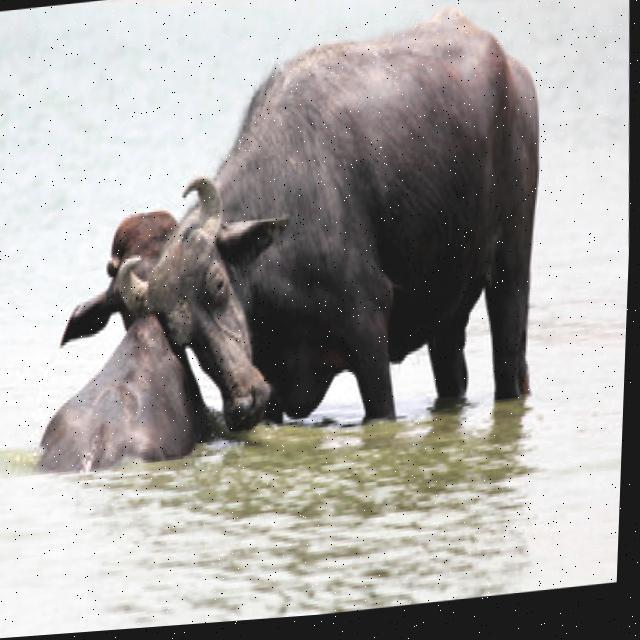Buffalo: (101, 4, 548, 444)
